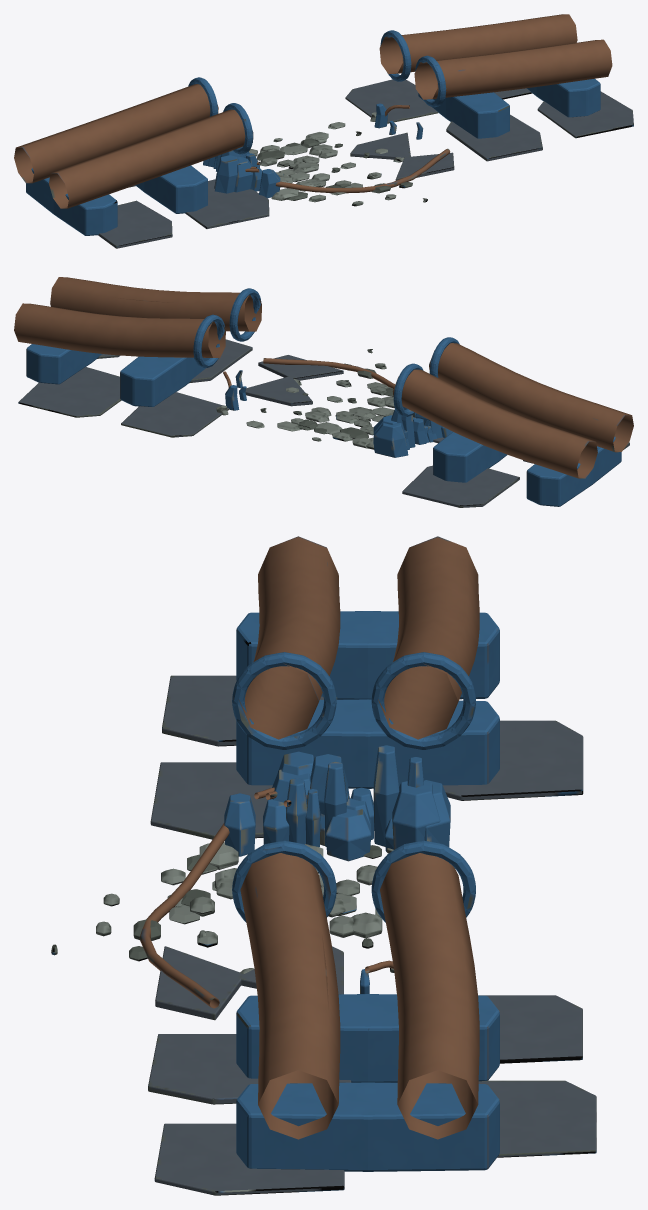
File: pipeline.glb
3 views of the same model, one above another, from view 1: azimuth 30°, elevation 25°; view 2: azimuth 150°, elevation 25°; view 3: azimuth 270°, elevation 25° (orthographic). The views are drawn at different scales.
Parts seen in each view (by area): view 1: GT_0131_pipeline_Structure, GT_0131_pipeline_GroundContact; view 2: GT_0131_pipeline_Structure, GT_0131_pipeline_GroundContact; view 3: GT_0131_pipeline_Structure, GT_0131_pipeline_GroundContact.
Boxes of the visible parts, bbox=[...] form: GT_0131_pipeline_Structure: bbox=[14, 14, 612, 235]; GT_0131_pipeline_GroundContact: bbox=[98, 79, 633, 248]; GT_0131_pipeline_Structure: bbox=[14, 277, 633, 506]; GT_0131_pipeline_GroundContact: bbox=[18, 339, 629, 507]; GT_0131_pipeline_Structure: bbox=[139, 536, 499, 1171]; GT_0131_pipeline_GroundContact: bbox=[51, 675, 596, 1195].
Size of the model in its own units: 9.19 by 1.39 by 3.91.
1 material, 1 textured.
